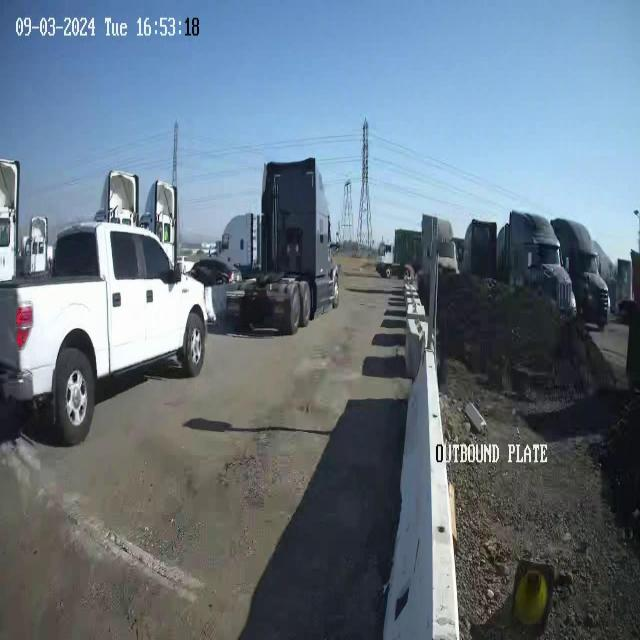TRUCK_IN: (237, 148, 339, 340)
